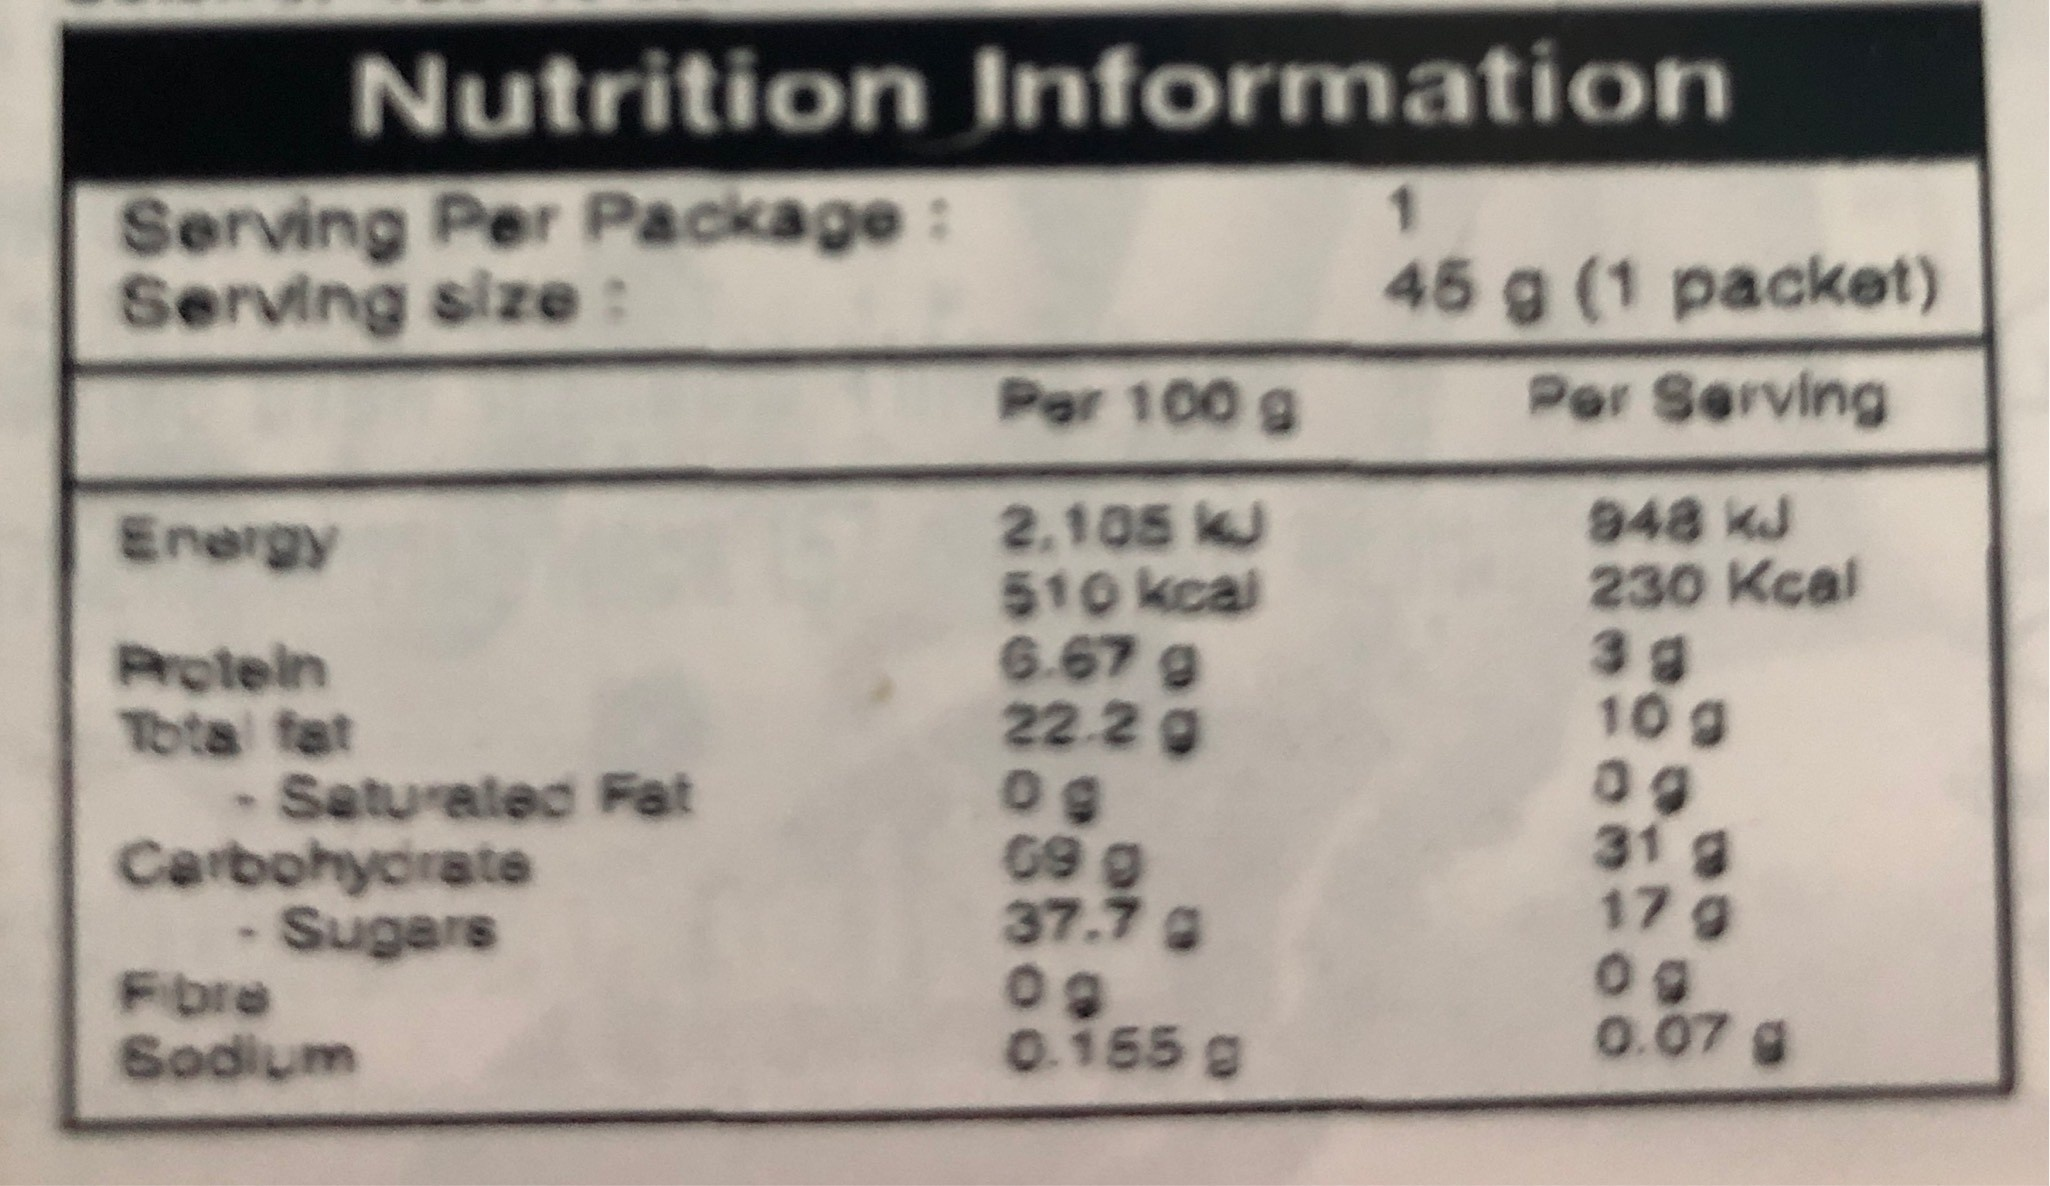column: (104, 383, 695, 1098), (1523, 369, 1895, 1080), (984, 366, 1309, 1093)
table: (48, 7, 2034, 1130)
